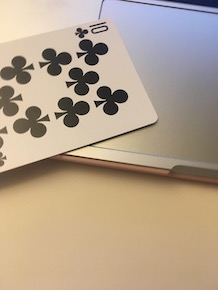TenOfClubs: (1, 10, 163, 174)
